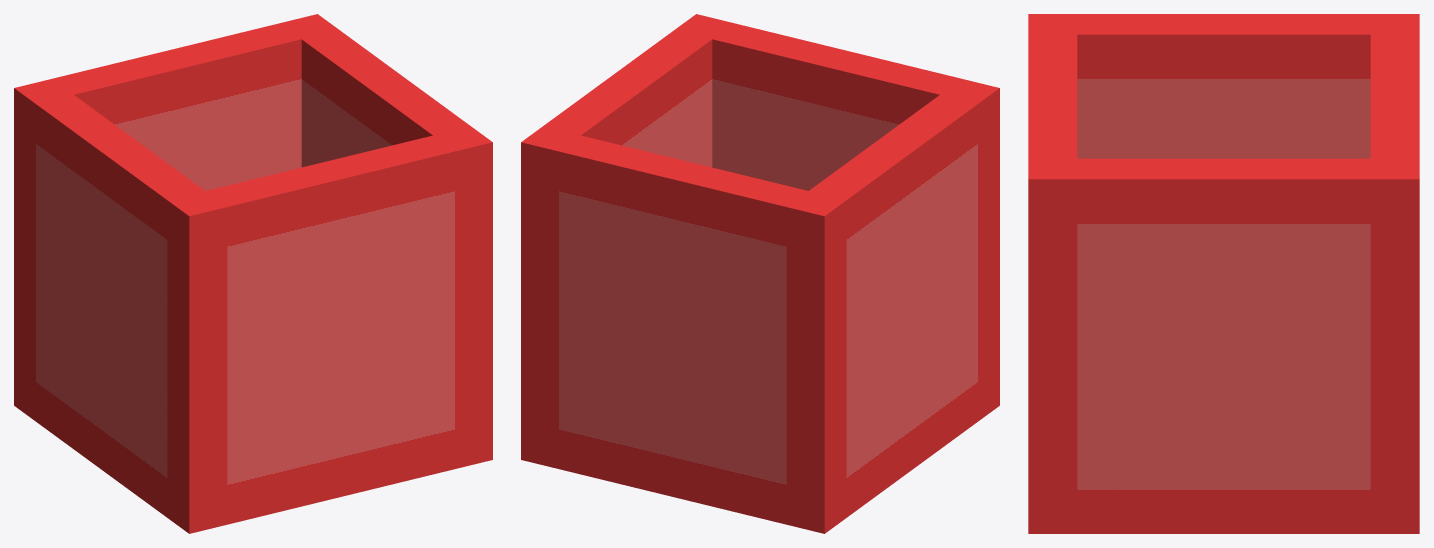
The model's file is DoorModel.fbx.
3 views of the same model, side by side, from view 1: azimuth 30°, elevation 25°; view 2: azimuth 150°, elevation 25°; view 3: azimuth 270°, elevation 25° (orthographic). The views are drawn at different scales.
Parts seen in each view (by area): view 1: Door; view 2: Door; view 3: Door.
Boxes of the visible parts, x1=… form: Door: x1=14, y1=14, x2=492, y2=533; Door: x1=521, y1=14, x2=999, y2=533; Door: x1=1028, y1=14, x2=1419, y2=533.
Size of the model in its own units: 2 by 2 by 2.
